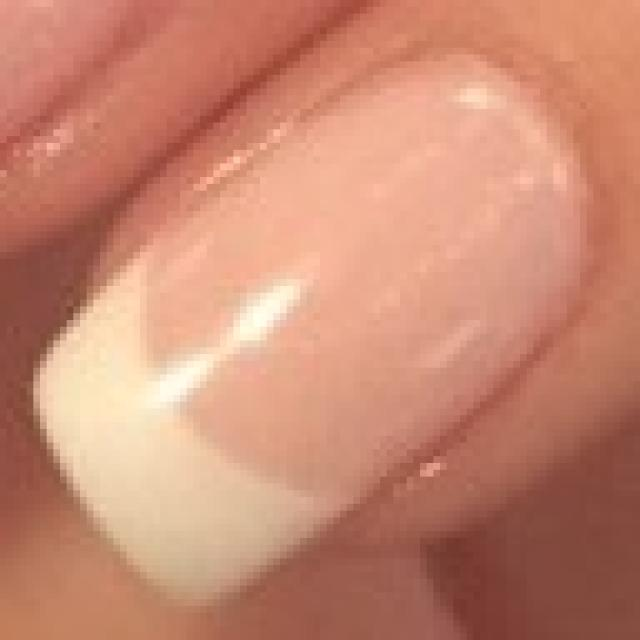Nail: (27, 55, 591, 607)
